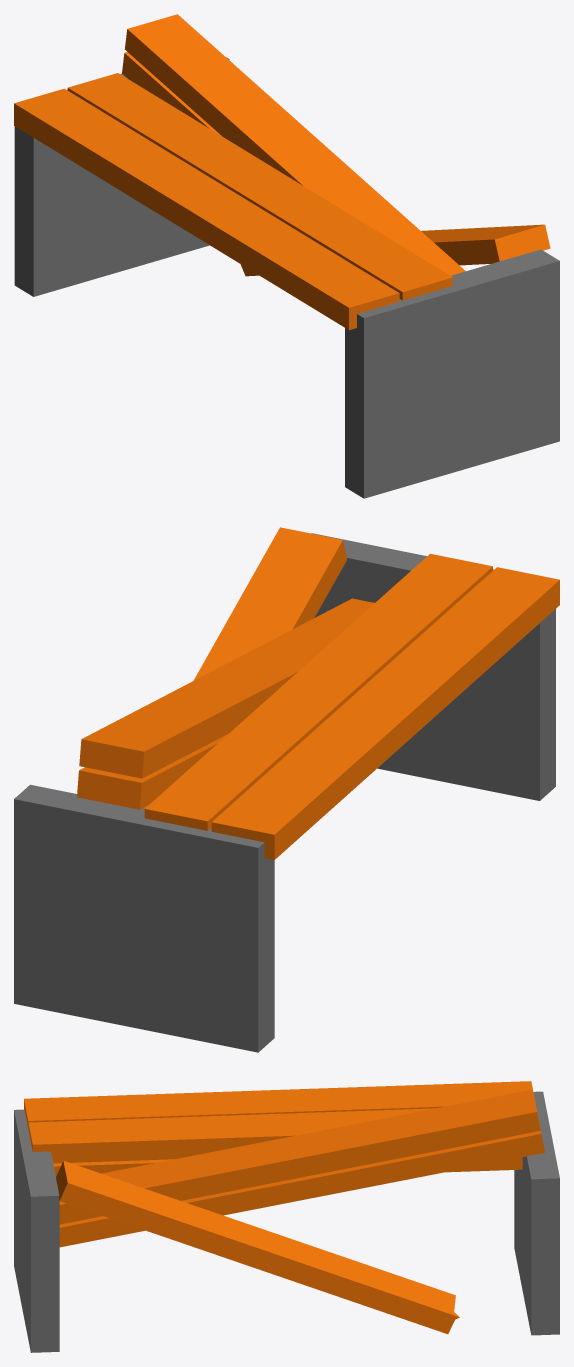
Rendered from Bench.fbx.
3 views of the same model, one above another, from view 1: azimuth 30°, elevation 25°; view 2: azimuth 150°, elevation 25°; view 3: azimuth 270°, elevation 25° (orthographic). The views are drawn at different scales.
Parts seen in each view (by area): view 1: ParkGround.060; view 2: ParkGround.060; view 3: ParkGround.060.
Boxes of the visible parts, bbox=[...] form: ParkGround.060: bbox=[14, 14, 559, 498]; ParkGround.060: bbox=[14, 527, 559, 1052]; ParkGround.060: bbox=[14, 1081, 559, 1352].
Size of the model in its own units: 2.2 by 1.88 by 4.57.
1 material, 1 textured.
